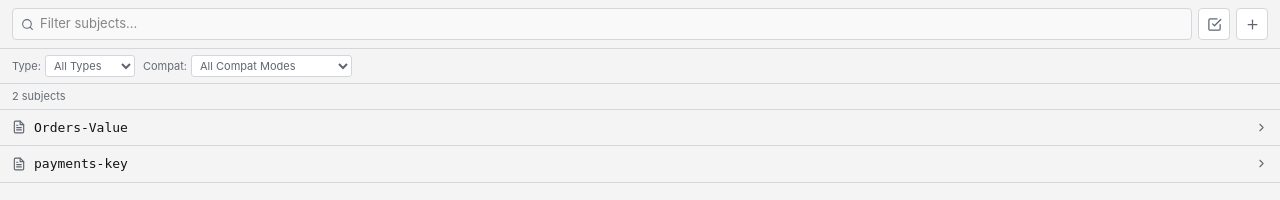
Test: [@schema-list] search/filter › filter is case-insensitive
Type "orders" into the field named "filter schema subjects" at x=612, y=24, box left=40, top=14, right=1183, bottom=34
Wait 300 ms
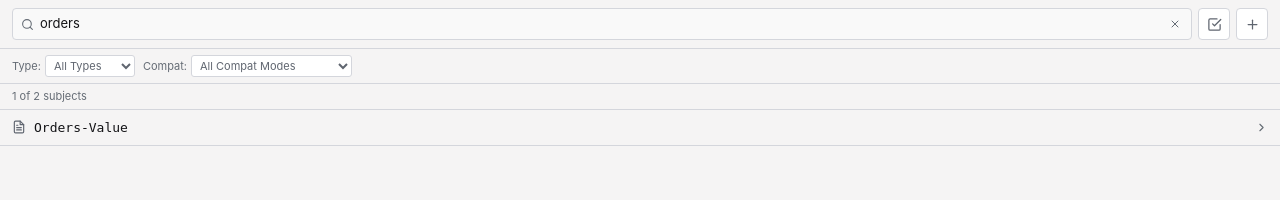
Check: the text "Orders-Value" is shown, box left=34, top=120, right=128, bottom=134
Check: the text "payments-key" is gone
